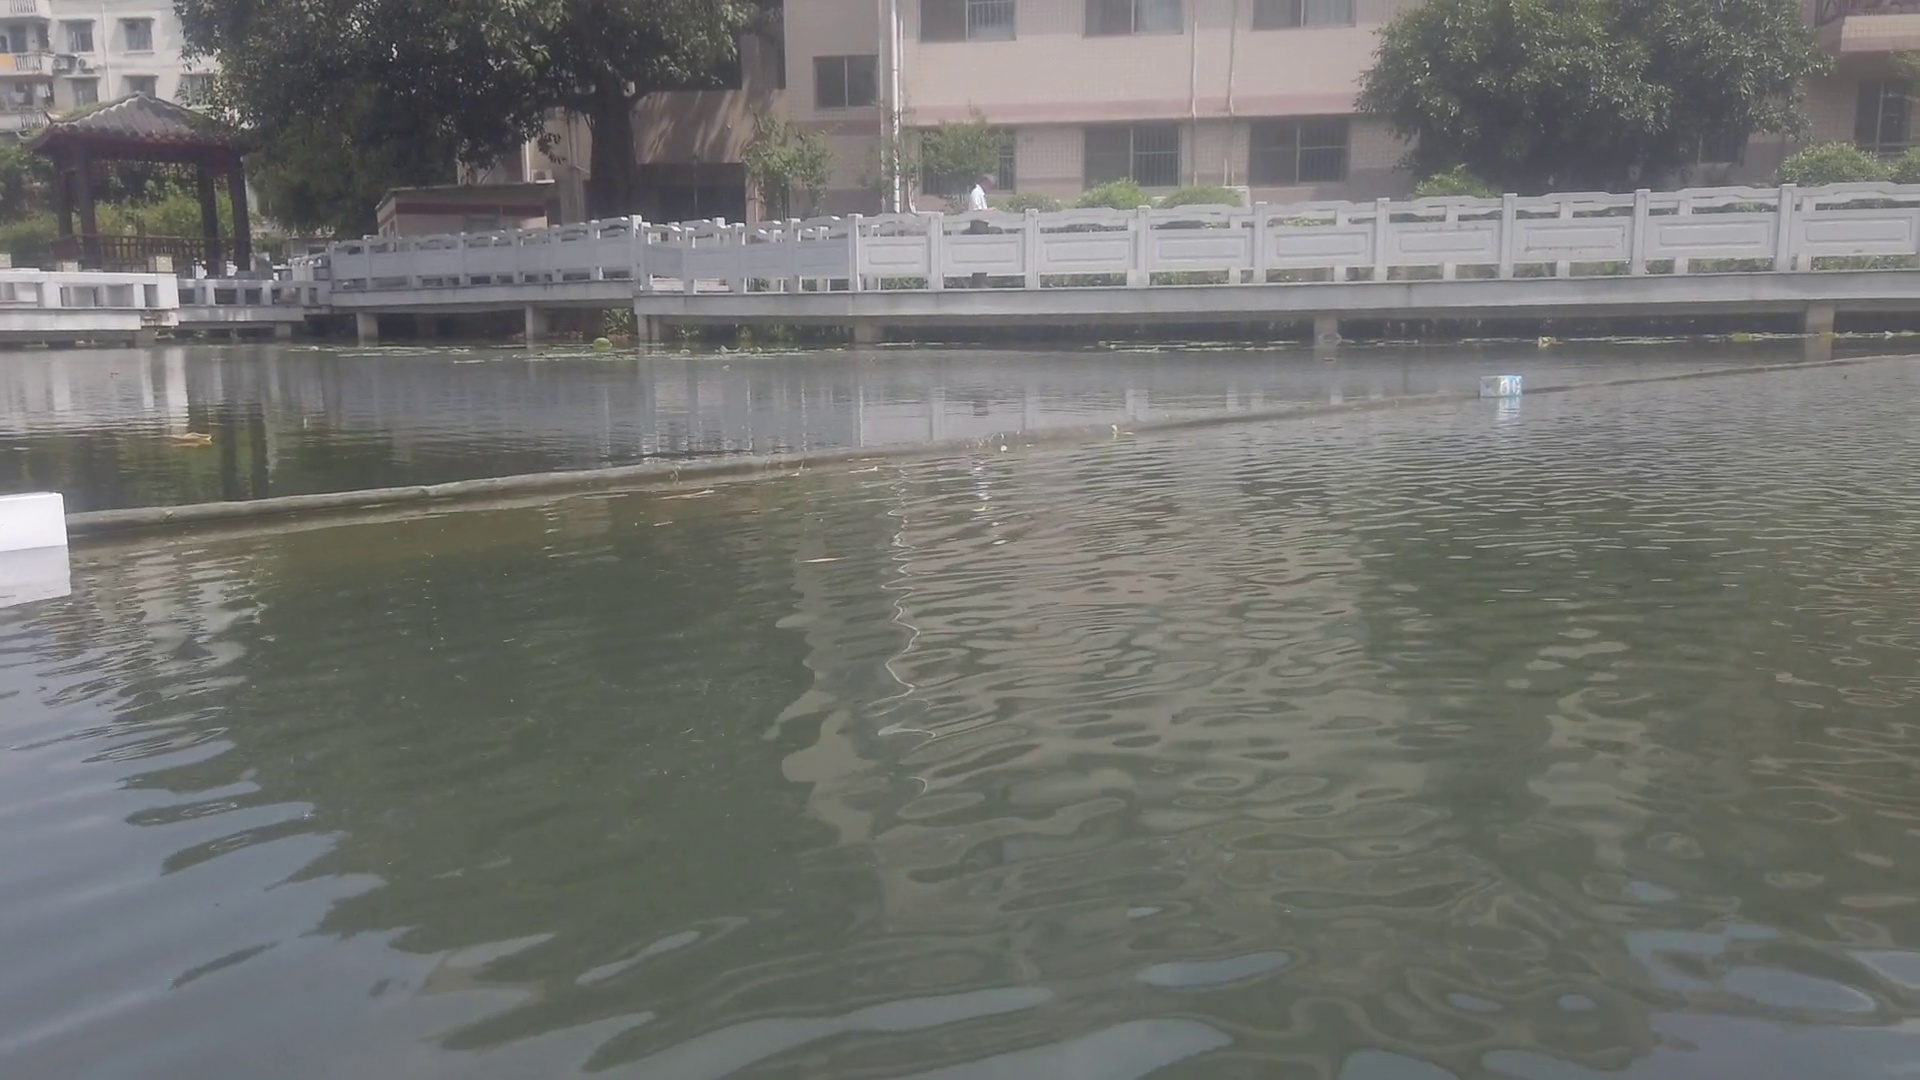carton: (1, 492, 73, 551), (1477, 375, 1523, 402)
